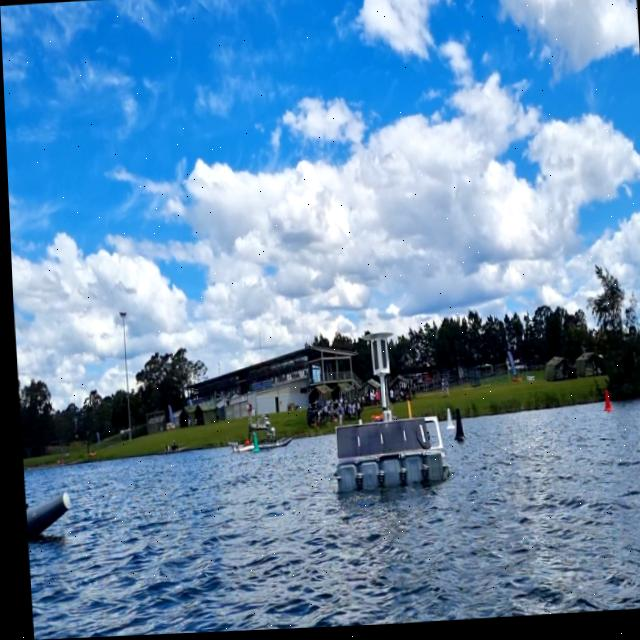led: (375, 340, 385, 374), (368, 343, 376, 374)
